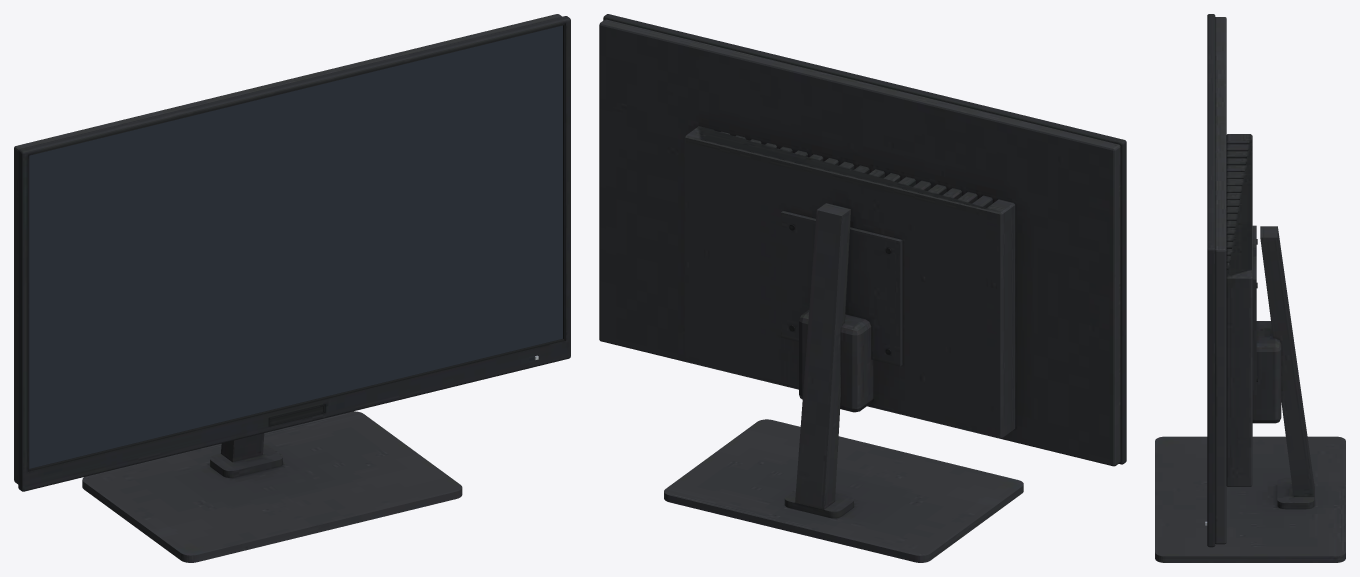
File: lcd-b.glb
The picture shows the model from 3 angles, left to right: view 1: azimuth 30°, elevation 25°; view 2: azimuth 150°, elevation 25°; view 3: azimuth 270°, elevation 25°; orthographic projection. The views are drawn at different scales.
Parts seen in each view (by area): view 1: glass, case-baked; view 2: case-baked; view 3: case-baked.
Part boxes in pixels (left/top/right/bottom): glass: left=29, top=25, right=562, bottom=468; case-baked: left=14, top=14, right=570, bottom=562; case-baked: left=599, top=14, right=1126, bottom=562; case-baked: left=1155, top=14, right=1345, bottom=562.
Size of the model in its own units: 0.54 by 0.398 by 0.185.
Materials: 2 (1 with a texture image).
